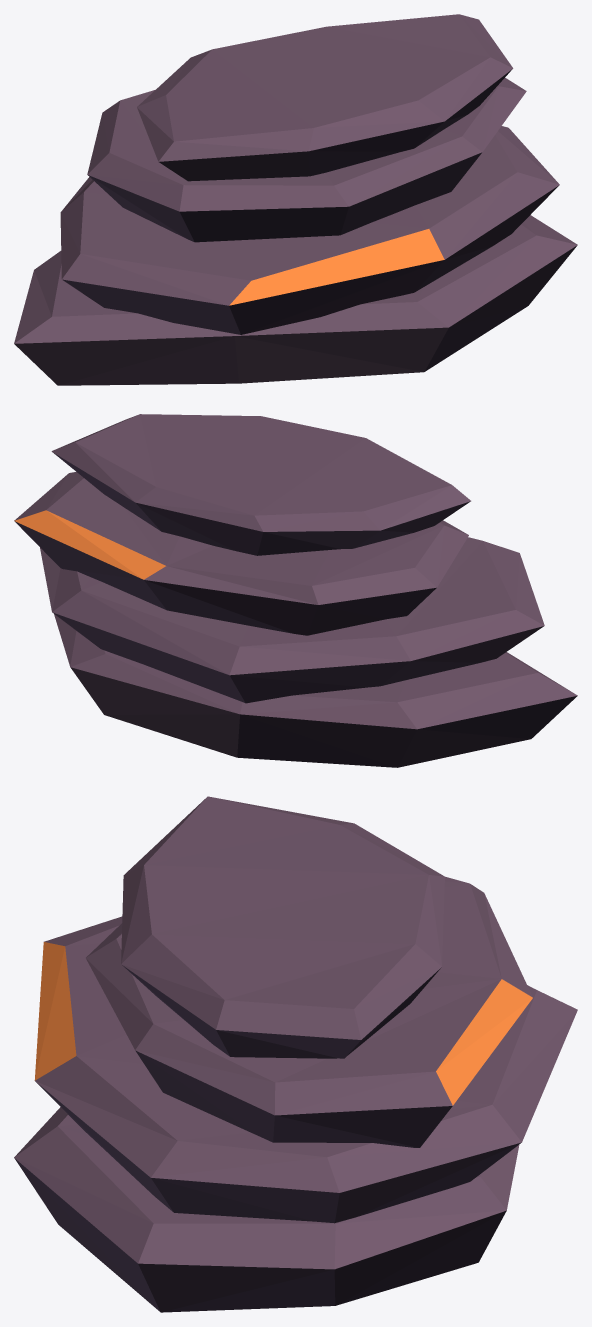
File: rock_mesa_vent.fbx
3 renders of one model, top to bottom at view 1: azimuth 30°, elevation 25°; view 2: azimuth 150°, elevation 25°; view 3: azimuth 270°, elevation 25°, orthographic. The views are drawn at different scales.
Visible parts, largest first — view 1: rock_mesa_vent; view 2: rock_mesa_vent; view 3: rock_mesa_vent.
Part boxes in pixels (x1,y1,x2,y2): rock_mesa_vent: (14,14,577,385); rock_mesa_vent: (14,414,577,767); rock_mesa_vent: (14,796,577,1312).
Size of the model in its own units: 2543 by 1092 by 1798.
1 material, 1 textured.
